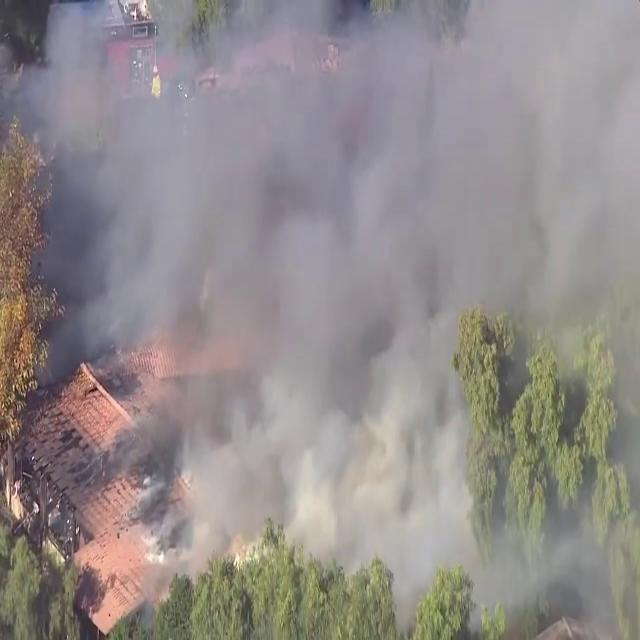Smoke: (23, 0, 639, 571)
